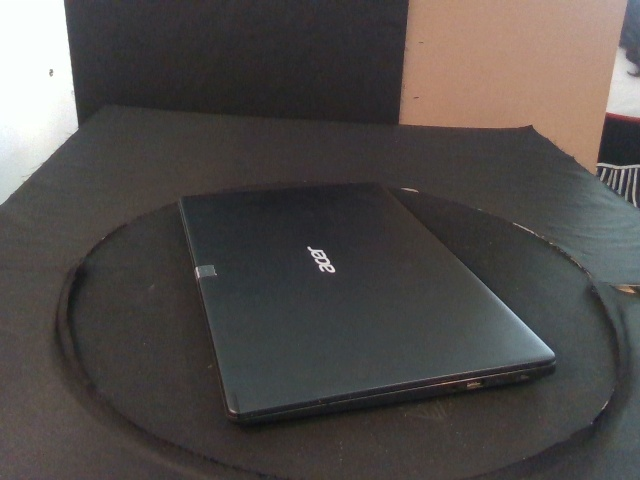laptop: (177, 181, 556, 429)
